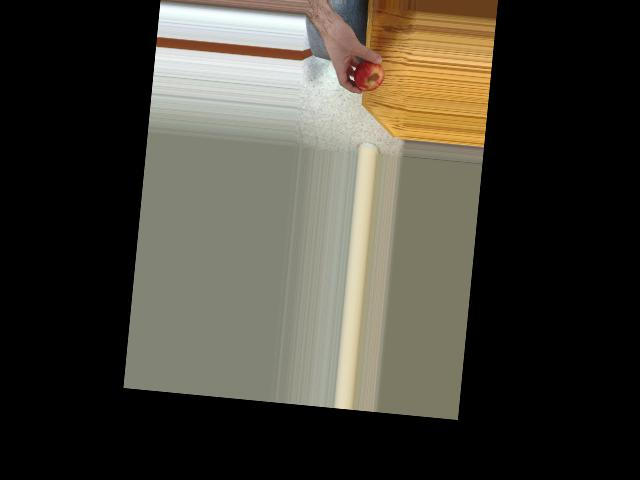apple: (349, 55, 384, 93)
